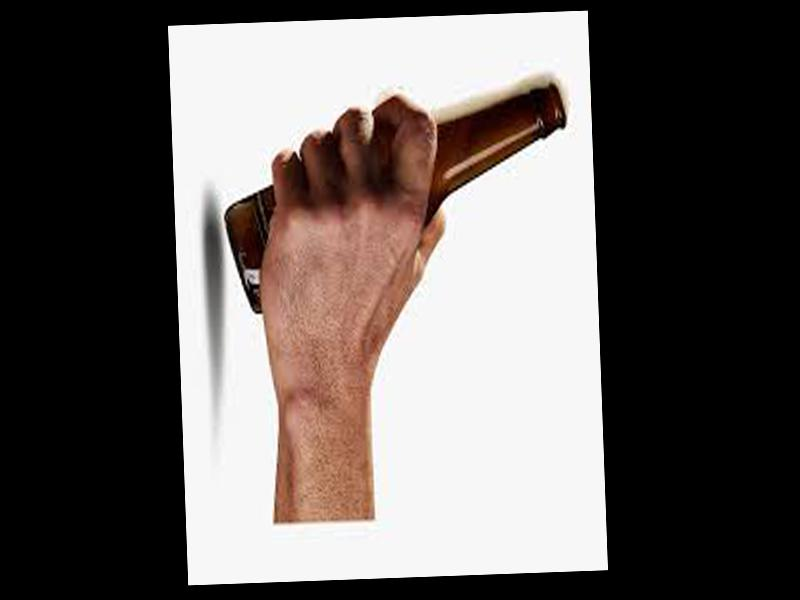Beer: (215, 82, 571, 314)
